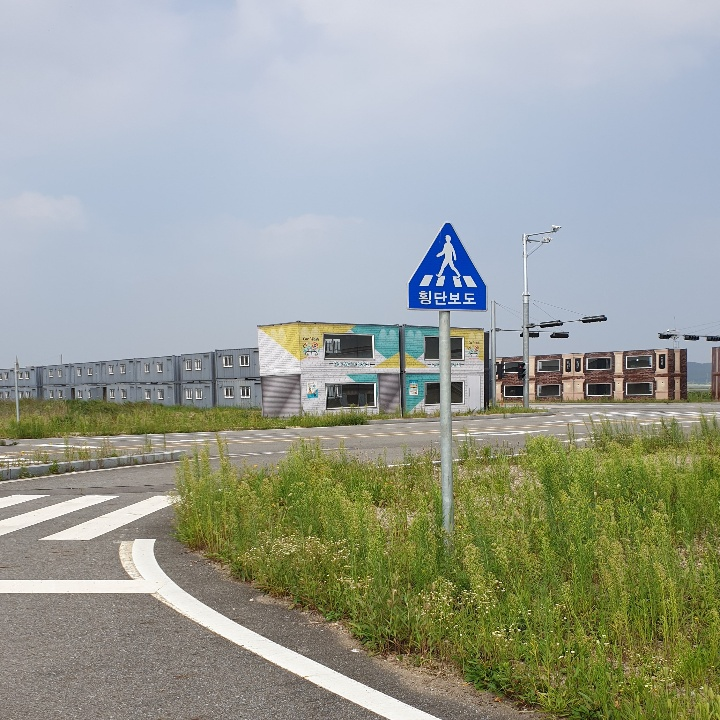cross: (431, 226, 465, 287)
